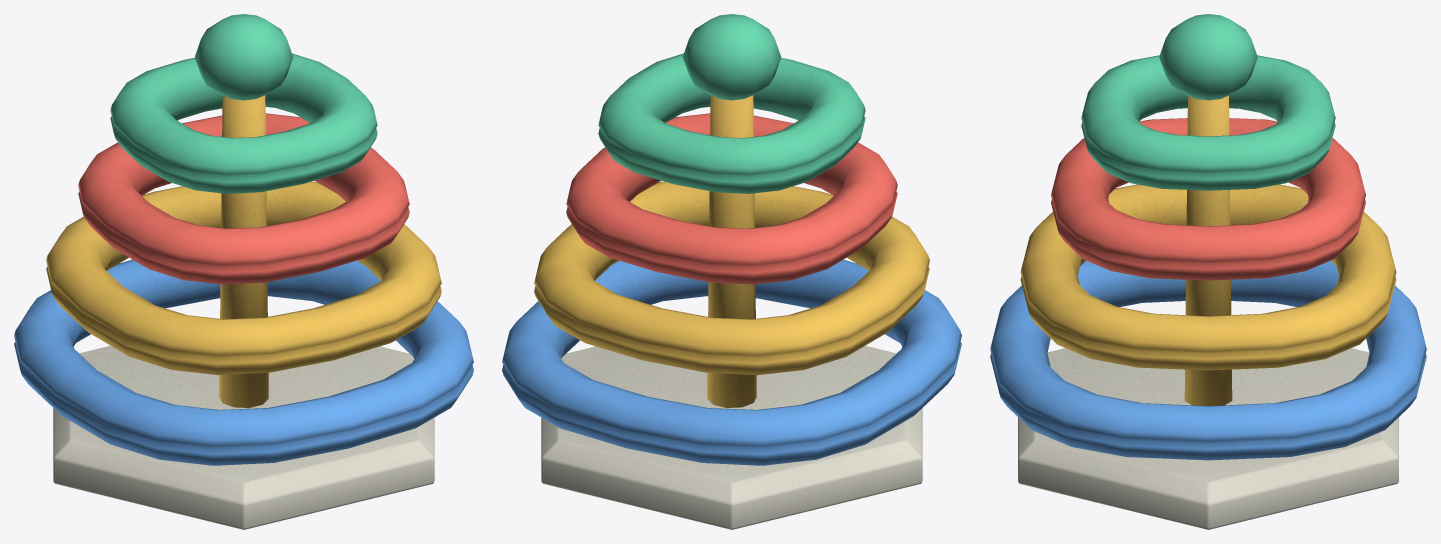
File: SM_L1_Hanoi_A.fbx
3 renders of one model, left to right at view 1: azimuth 30°, elevation 25°; view 2: azimuth 150°, elevation 25°; view 3: azimuth 270°, elevation 25°, orthographic.
Parts seen in each view (by area): view 1: SM_L1_Hanoi_A; view 2: SM_L1_Hanoi_A; view 3: SM_L1_Hanoi_A.
Boxes of the visible parts, box(x1,y1,x2,y2) form: SM_L1_Hanoi_A: box(14, 14, 473, 529); SM_L1_Hanoi_A: box(502, 14, 961, 529); SM_L1_Hanoi_A: box(990, 14, 1426, 529).
Bounding box in the file's own units: 0.6478 × 0.7 × 0.6442.
